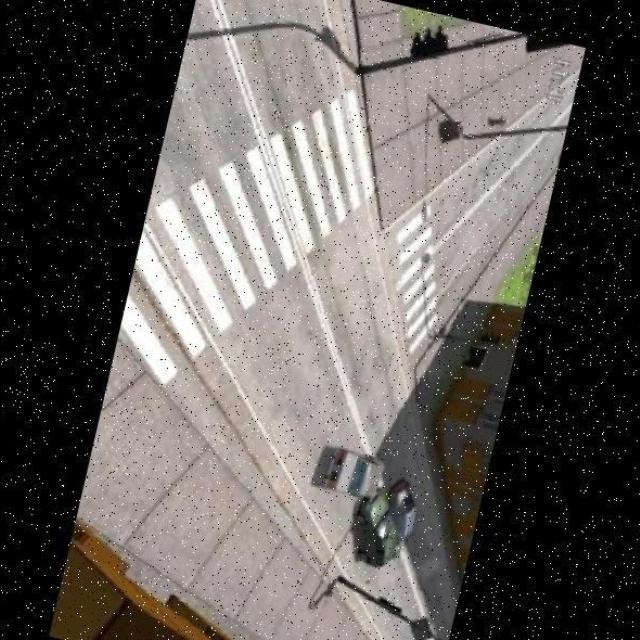accident: (298, 439, 434, 577)
